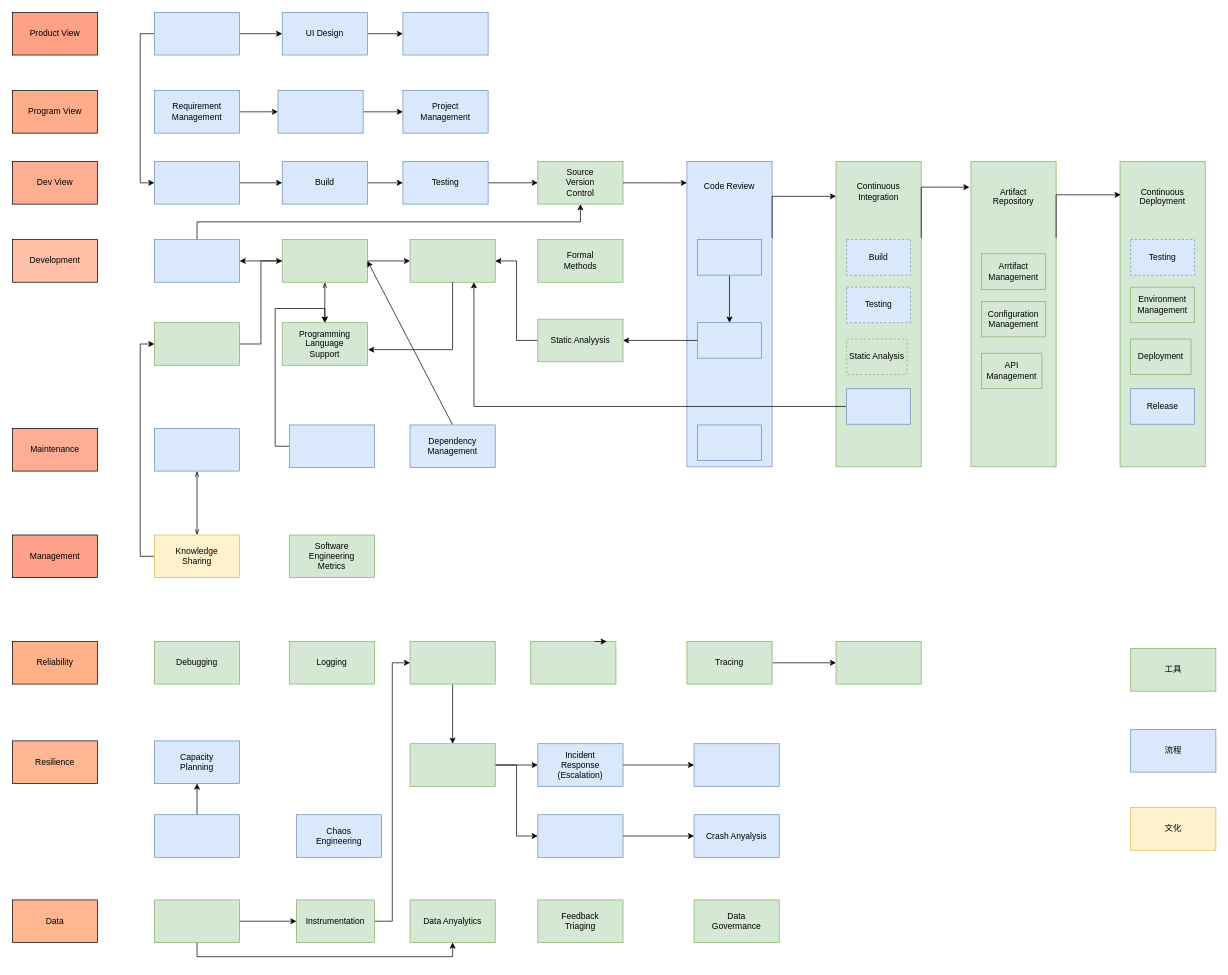
Image size: 1228x975. Some labels were removed from this diagram. Here are the shapes that lost their labels. From the top down, the centre of each, then its label:
the point at 197,33: Product Design
the point at 445,33: UX R&D
the point at 320,111: Issue Management
the point at 197,182: System Design
the point at 197,260: Branch Management
the point at 324,260: Source Repo Management
the point at 452,260: Build System
the point at 729,257: Readability
the point at 197,343: Code Search
the point at 729,340: Style Guide Best Practices
the point at 878,406: Packaging
the point at 197,449: Documentation
the point at 332,446: Large-Scale Change
the point at 729,442: code Ownership
the point at 452,662: Monitoring
the point at 573,662: Dynamic Analysis
the point at 878,662: Probing
the point at 452,764: Alerting
the point at 736,764: Postmortem
the point at 197,835: Reliability Testing
the point at 580,835: On-Call
the point at 197,921: Online Controlled Experiment
